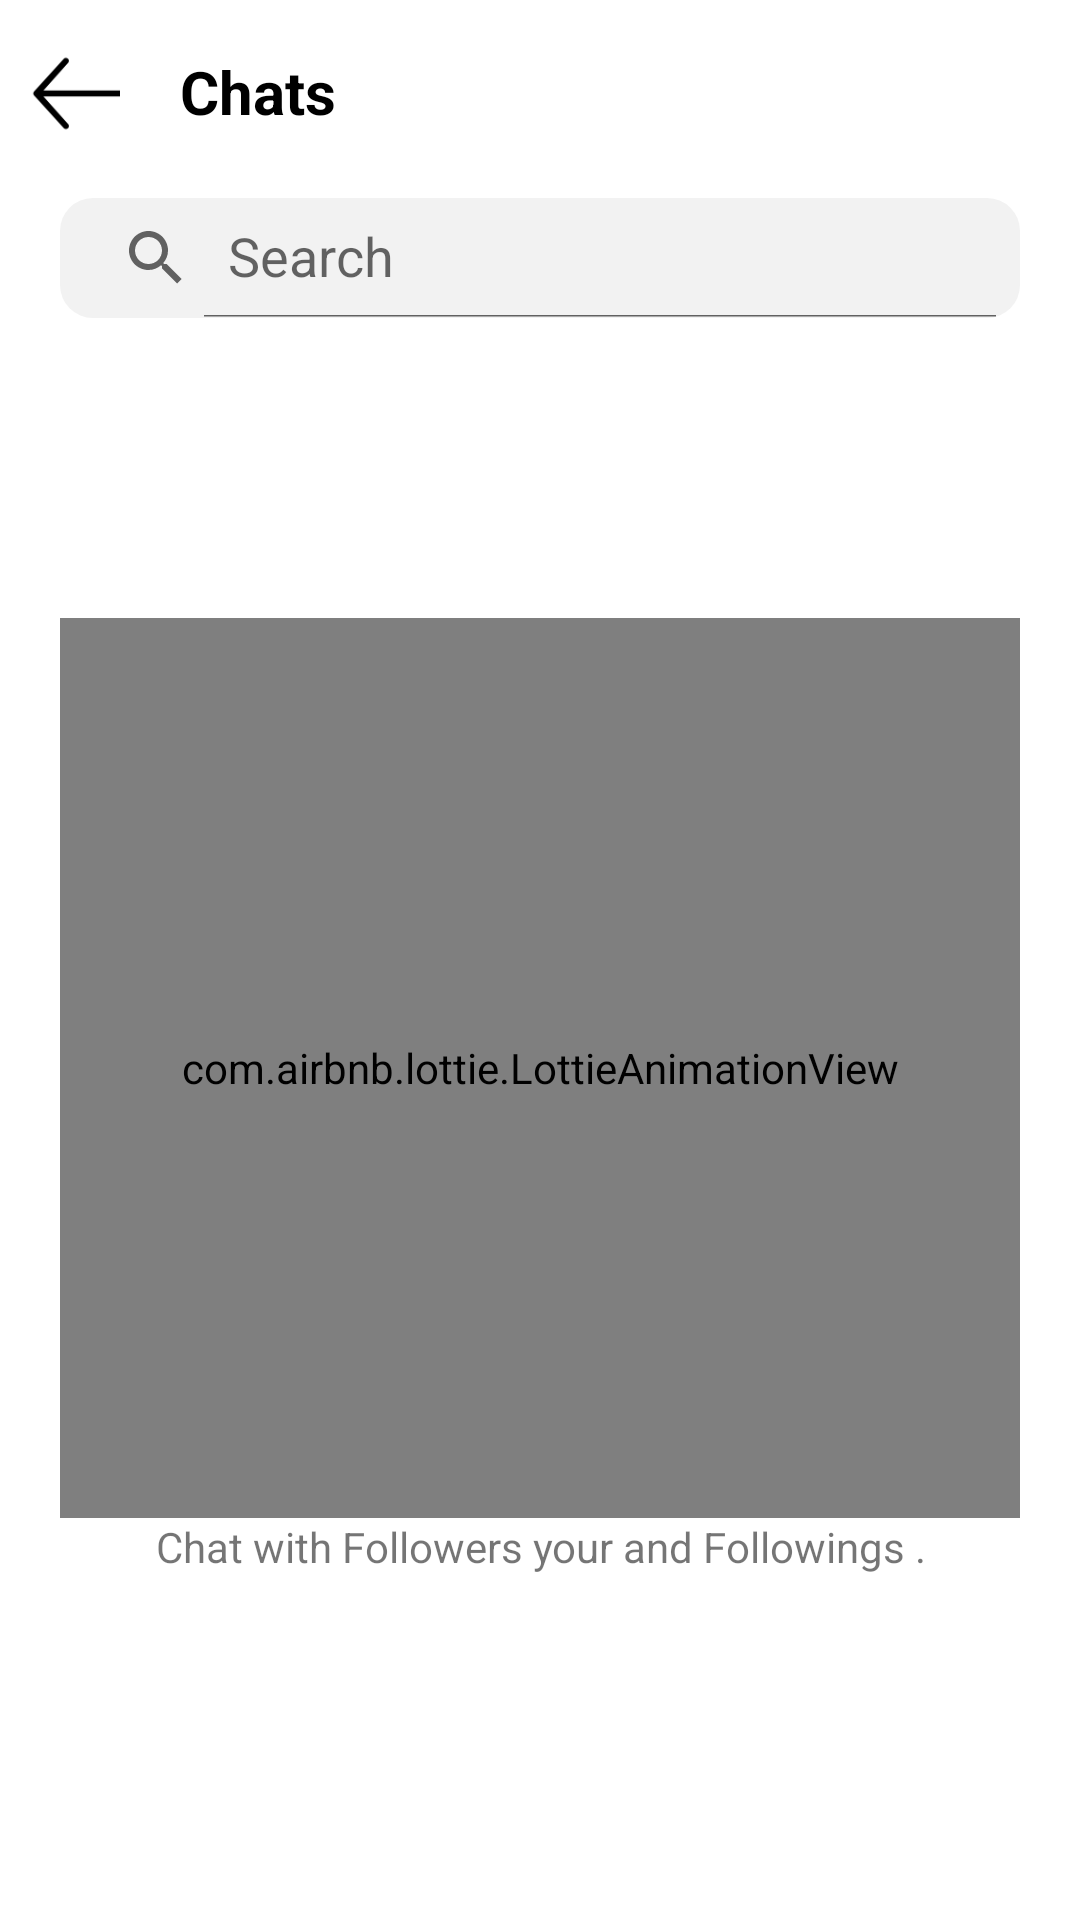

Icon click points for this 1080px×1920px phone screenshot, format [x,y]:
back: [76,93]
